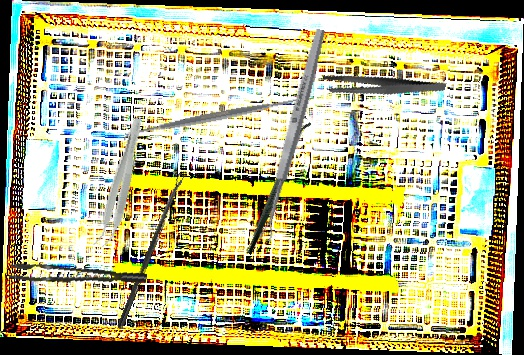Dressing Forceps: (319, 48, 447, 124)
Hook Surgical: (198, 108, 352, 256)
Spatula Surgical: (120, 89, 307, 146)
Surgical Spoon: (257, 27, 328, 243), (116, 173, 186, 330)
Tissue Forceps: (92, 115, 147, 250), (8, 250, 148, 302)
